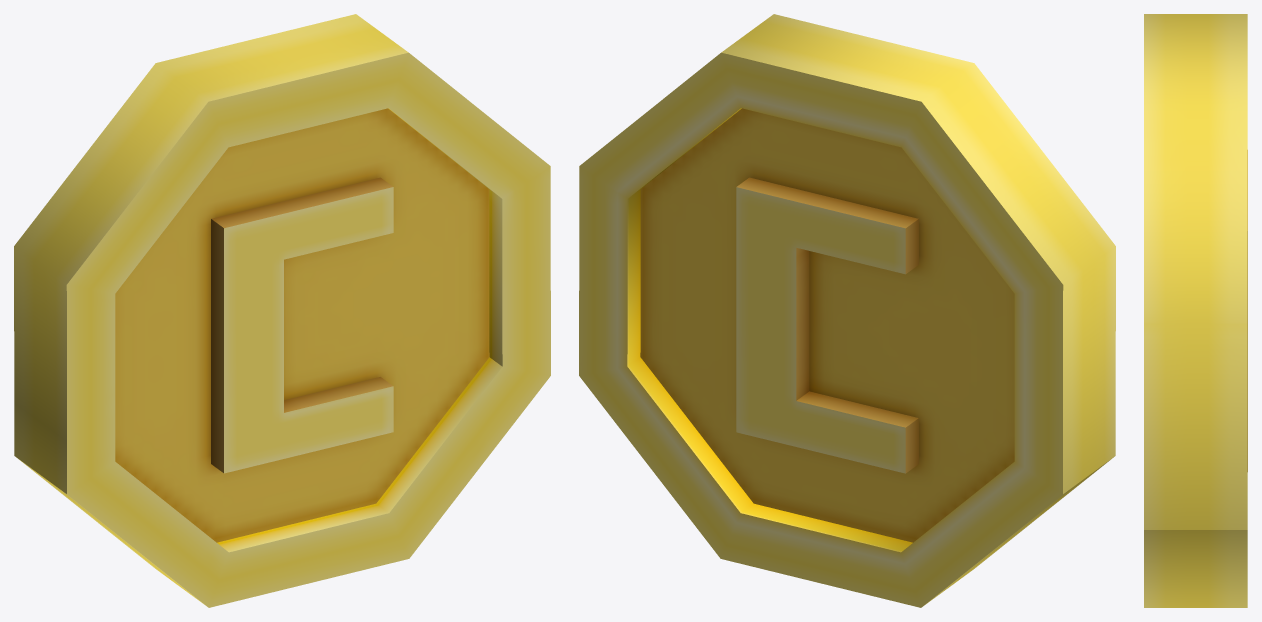
3 renders of one model, left to right at view 1: azimuth 30°, elevation 25°; view 2: azimuth 150°, elevation 25°; view 3: azimuth 270°, elevation 25°, orthographic.
Visible parts, largest first — view 1: Coin_C; view 2: Coin_C; view 3: Coin_C.
Part boxes in pixels (x1=…): Coin_C: x1=14, y1=14, x2=550, y2=607; Coin_C: x1=579, y1=14, x2=1115, y2=607; Coin_C: x1=1144, y1=14, x2=1247, y2=607.
Size of the model in its own units: 31.02 by 31.02 by 5.87.
